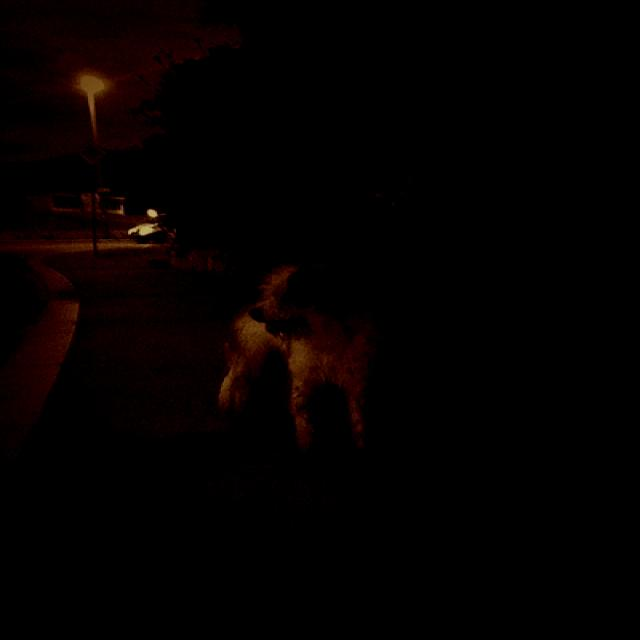Dog: (129, 158, 518, 482)
